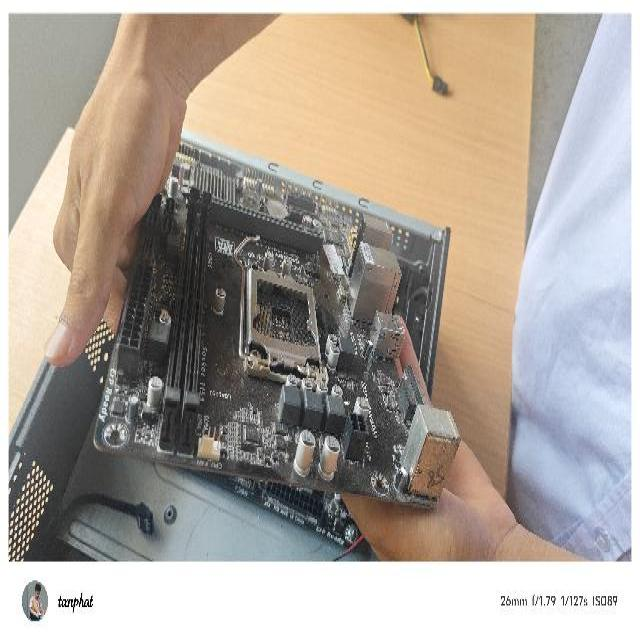Mainboard: (92, 171, 442, 510)
